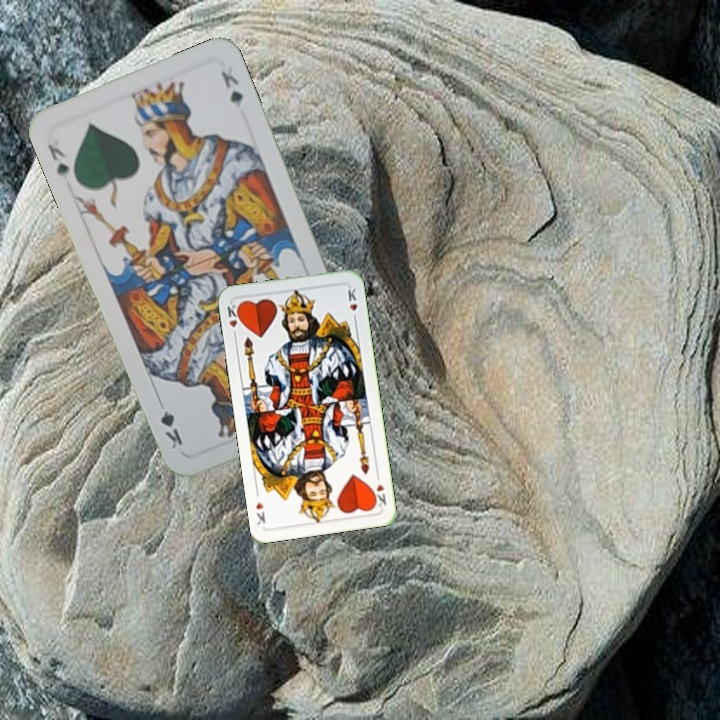GK: (43, 140, 72, 183)
HK: (369, 469, 389, 511), (223, 300, 243, 341)
